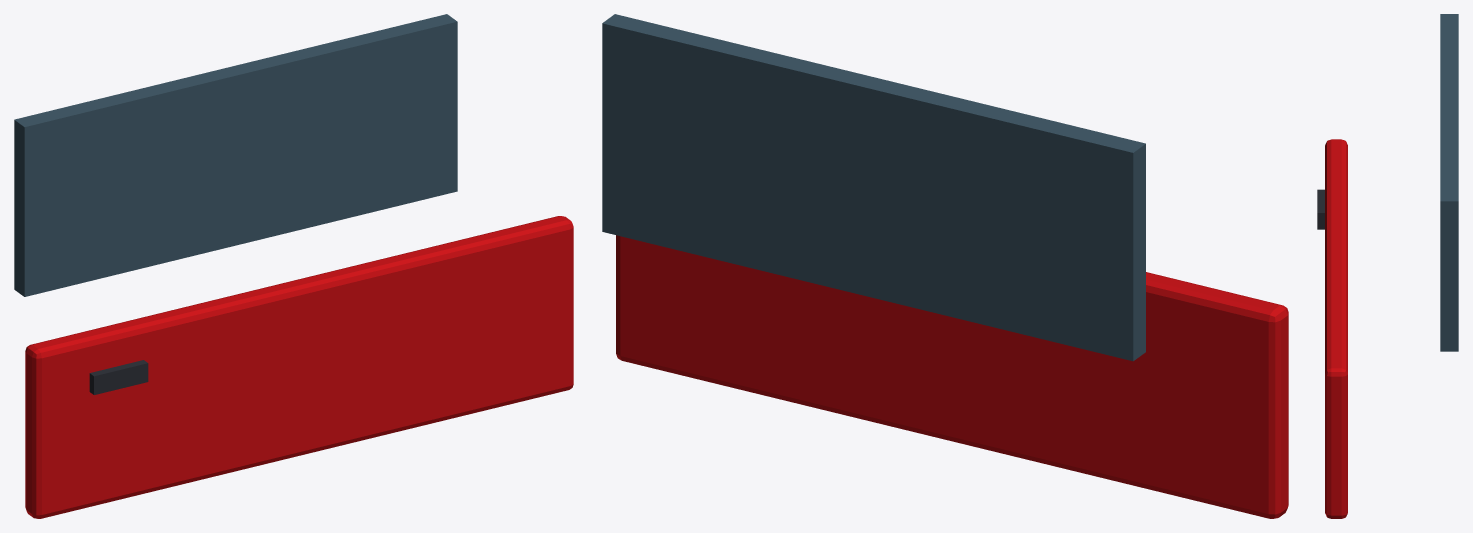
Rendered from door_r.obj.
3 renders of one model, left to right at view 1: azimuth 30°, elevation 25°; view 2: azimuth 150°, elevation 25°; view 3: azimuth 270°, elevation 25°, orthographic. The views are drawn at different scales.
Visible parts, largest first — view 1: Cube; view 2: Cube; view 3: Cube.
Boxes of the visible parts, bbox=[...] form: Cube: bbox=[14, 14, 573, 518]; Cube: bbox=[602, 14, 1288, 518]; Cube: bbox=[1317, 14, 1458, 518].
Bounding box in the file's own units: 1.2 × 0.71 × 0.307.
